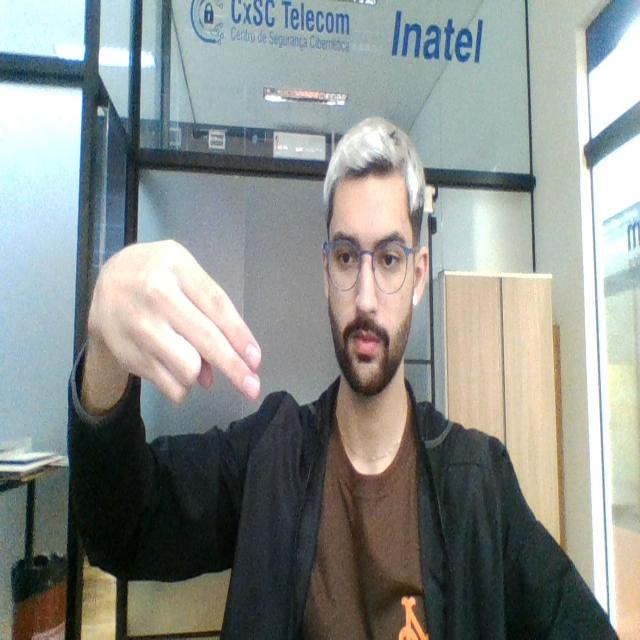N: (91, 228, 269, 422)
